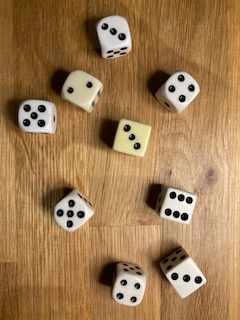five: (52, 188, 96, 234), (16, 98, 59, 136)
four: (153, 69, 202, 117), (109, 261, 149, 307)
six: (154, 184, 198, 226)
three: (159, 245, 208, 300), (94, 15, 133, 61), (111, 118, 153, 159)
two: (59, 69, 105, 112)
